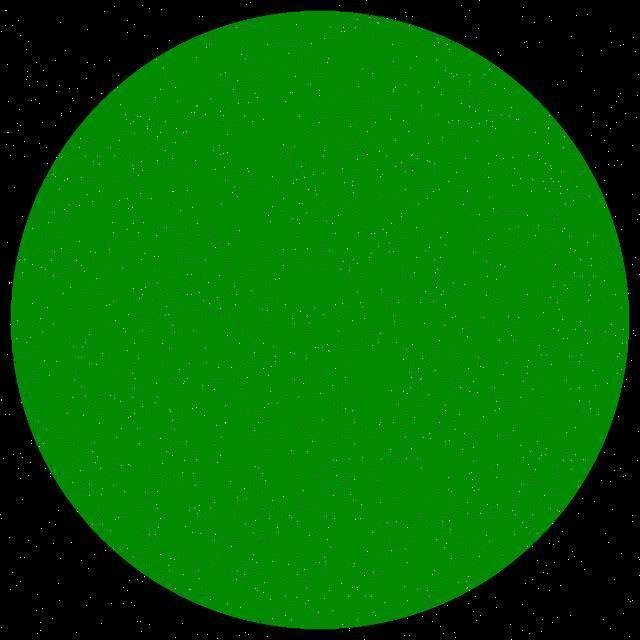Circle: (7, 6, 631, 632)
